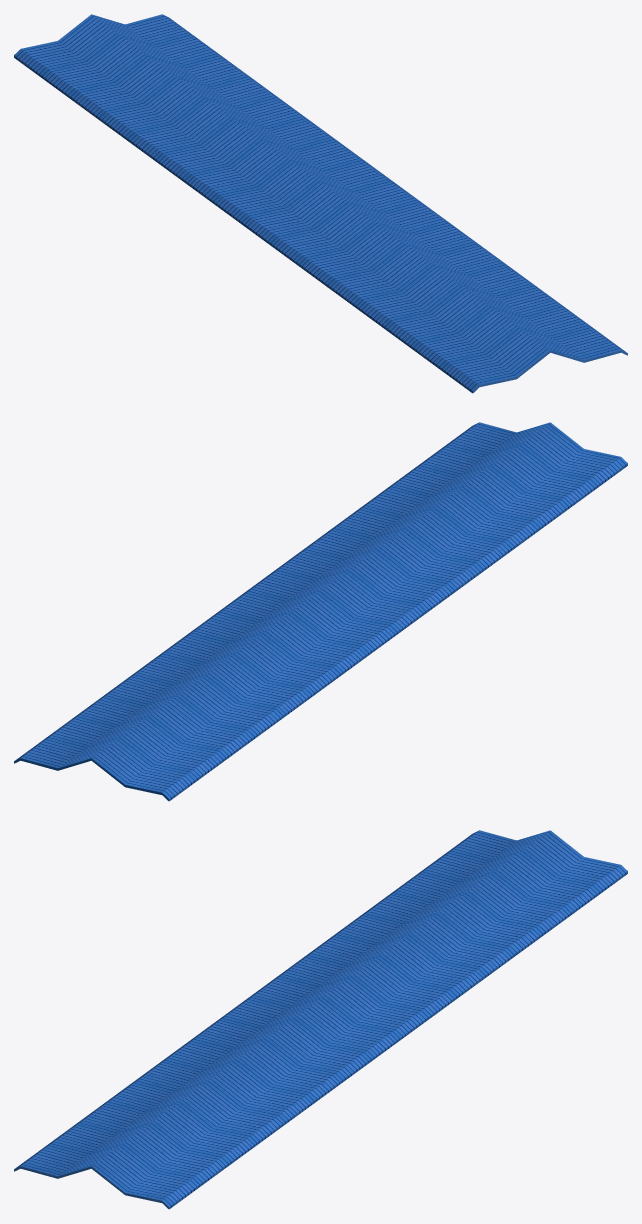
The model's file is n roof.fbx.
The picture shows the model from 3 angles, top to bottom: view 1: azimuth 30°, elevation 25°; view 2: azimuth 150°, elevation 25°; view 3: azimuth 330°, elevation 25°; orthographic projection.
Visible parts, largest first — view 1: polySurface640; view 2: polySurface640; view 3: polySurface640.
Part boxes in pixels (x1,y1,x2,y2): polySurface640: (14, 14, 627, 393); polySurface640: (14, 422, 627, 801); polySurface640: (14, 830, 627, 1209).
Bounding box in the file's own units: 5283 × 813 × 27078.
